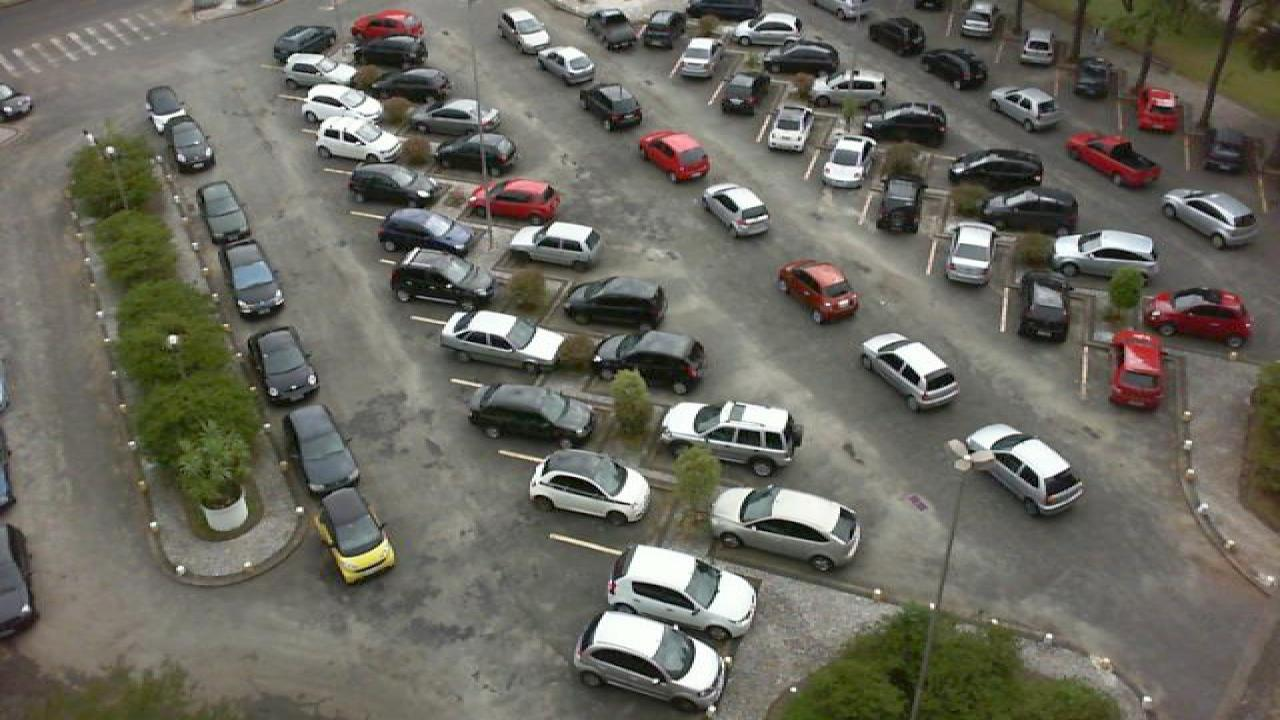Car: (570, 609, 730, 713), (604, 542, 760, 645), (706, 483, 866, 575), (960, 422, 1090, 518), (660, 397, 806, 478), (526, 446, 656, 526), (468, 382, 598, 456), (858, 331, 966, 413), (592, 328, 710, 400), (436, 308, 570, 371), (316, 486, 398, 585), (286, 402, 364, 498), (1138, 284, 1256, 343), (388, 248, 496, 310), (560, 273, 670, 332), (244, 324, 322, 404), (1160, 187, 1260, 248), (1046, 228, 1160, 280), (776, 259, 862, 327), (378, 205, 478, 261), (1066, 133, 1164, 188), (1106, 326, 1168, 412), (978, 188, 1080, 240), (504, 219, 602, 269), (946, 146, 1048, 194), (698, 181, 778, 242), (224, 242, 288, 317), (314, 114, 406, 166), (470, 177, 564, 225), (1010, 274, 1074, 344), (346, 163, 440, 209), (636, 130, 712, 184), (430, 130, 520, 174), (194, 178, 252, 245), (412, 97, 506, 138), (942, 219, 998, 287), (862, 101, 950, 143), (986, 84, 1062, 132), (368, 66, 452, 108), (300, 83, 380, 127), (578, 83, 646, 133), (920, 45, 990, 92), (874, 171, 926, 234), (810, 67, 890, 107), (820, 135, 878, 189), (164, 116, 220, 171), (282, 52, 360, 91), (350, 35, 430, 73), (764, 40, 844, 77), (270, 22, 342, 61), (726, 10, 808, 44), (1200, 125, 1254, 175), (866, 15, 930, 56), (764, 104, 816, 154), (498, 7, 554, 53), (582, 8, 638, 53), (536, 45, 598, 85), (670, 36, 724, 81), (720, 68, 770, 115), (350, 9, 426, 39), (1136, 83, 1180, 134), (636, 8, 688, 50), (1070, 55, 1116, 100), (144, 84, 190, 125), (954, 0, 1002, 38), (1016, 25, 1060, 65), (686, 0, 764, 22)
